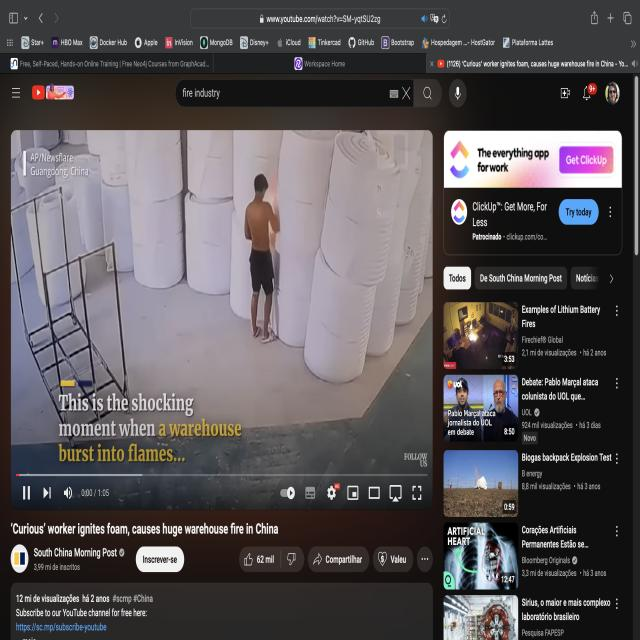Atencao: (209, 159, 322, 384)
